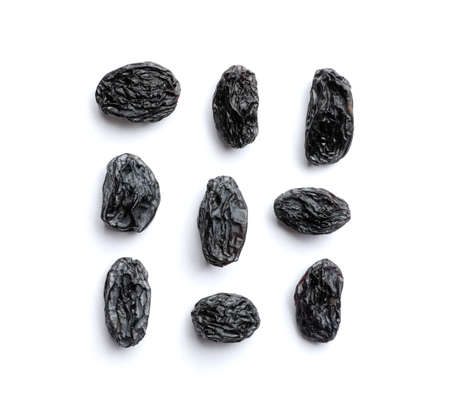raisin: (96, 62, 182, 123), (305, 68, 354, 166), (101, 154, 161, 233), (198, 176, 248, 267), (294, 258, 345, 344), (104, 257, 151, 348), (212, 63, 260, 150), (273, 186, 352, 234), (191, 292, 260, 343)
